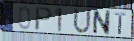0: (18, 6, 32, 31)
1: (54, 7, 63, 33)
N: (92, 9, 112, 36)
P: (34, 7, 54, 32)
T: (114, 12, 128, 36)
U: (72, 7, 92, 35)
